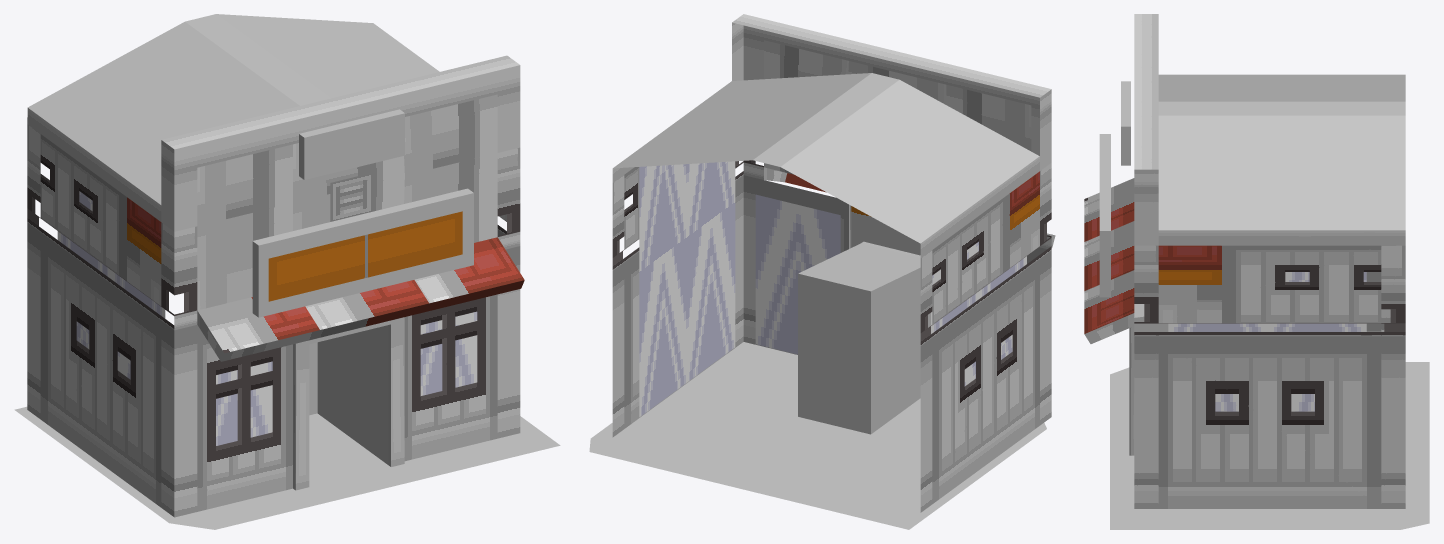
Rendered from rr_mise_02.dae.
The picture shows the model from 3 angles, left to right: view 1: azimuth 30°, elevation 25°; view 2: azimuth 150°, elevation 25°; view 3: azimuth 270°, elevation 25°; orthographic projection. The views are drawn at different scales.
Parts seen in each view (by area): view 1: rr_mise_02; view 2: rr_mise_02; view 3: rr_mise_02.
Boxes of the visible parts, x1=… form: rr_mise_02: x1=14, y1=14, x2=560, y2=529; rr_mise_02: x1=589, y1=14, x2=1055, y2=529; rr_mise_02: x1=1084, y1=14, x2=1429, y2=529.
Bounding box in the file's own units: 82.05 × 79.31 × 71.33.
